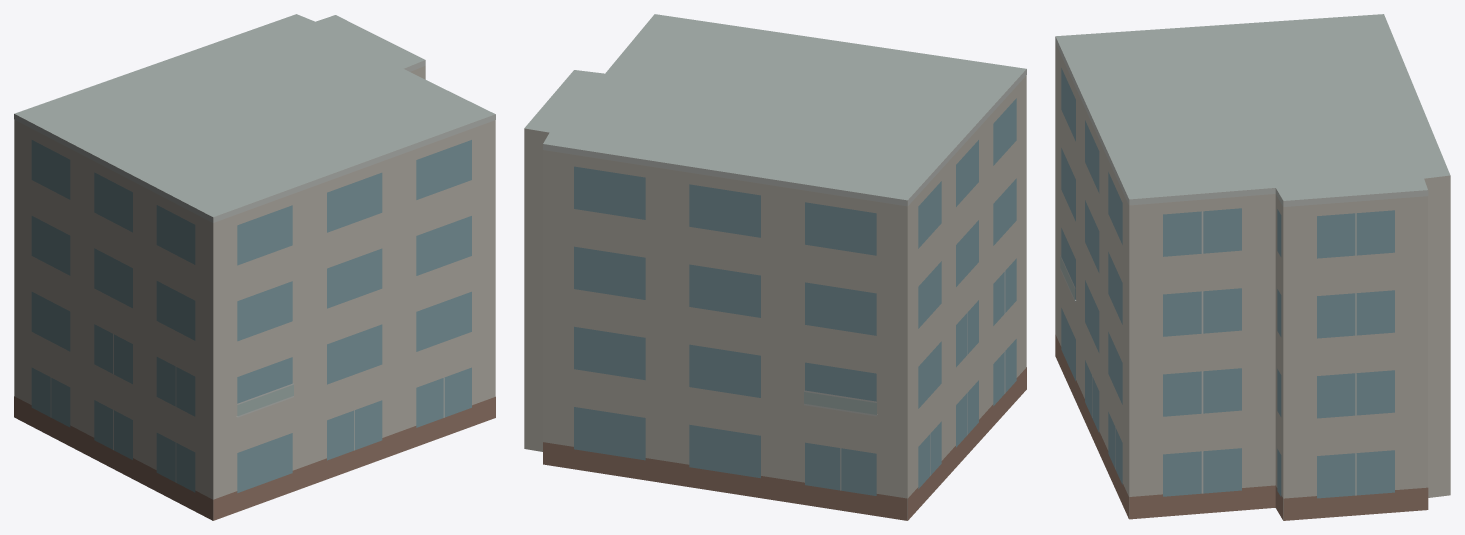
The model's file is survey-upis-32727703.glb.
The picture shows the model from 3 angles, left to right: view 1: azimuth 30°, elevation 25°; view 2: azimuth 150°, elevation 25°; view 3: azimuth 270°, elevation 25°; orthographic projection. The views are drawn at different scales.
Parts seen in each view (by area): view 1: survey-upis-32727703.tmp; view 2: survey-upis-32727703.tmp; view 3: survey-upis-32727703.tmp.
Boxes of the visible parts, left/top/right/bottom form: survey-upis-32727703.tmp: left=14, top=14, right=495, bottom=520; survey-upis-32727703.tmp: left=524, top=14, right=1026, bottom=520; survey-upis-32727703.tmp: left=1055, top=14, right=1450, bottom=520.
Bounding box in the file's own units: 16.18 × 12.9 × 14.45.
